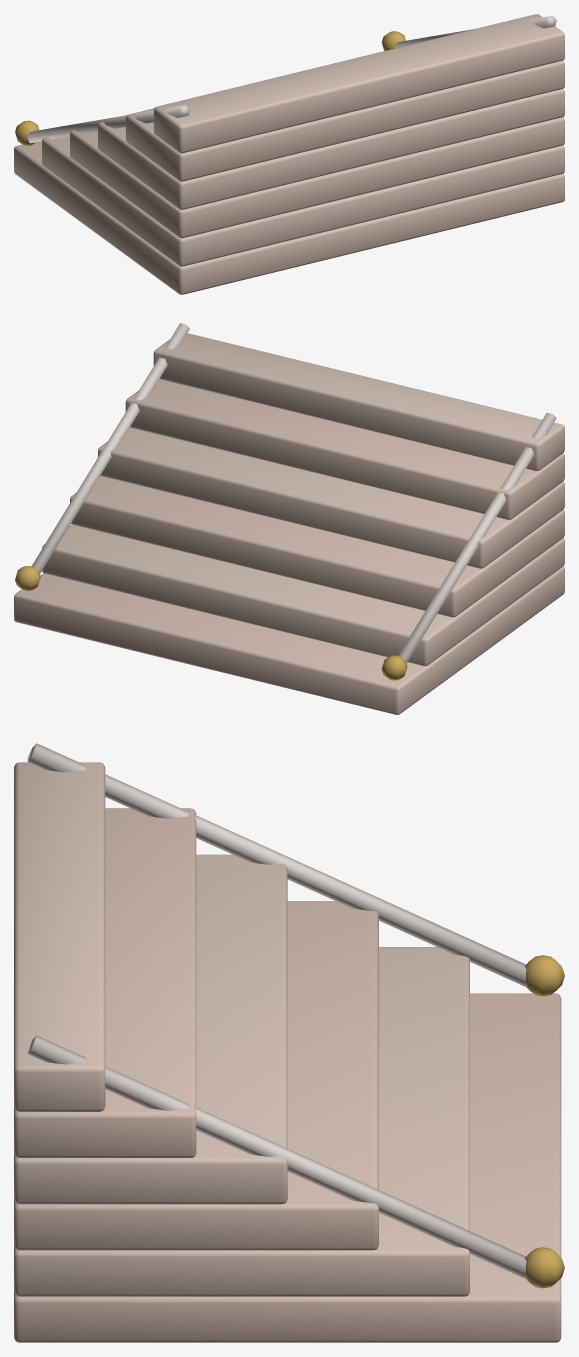
Rendered from stone_steps.glb.
The picture shows the model from 3 angles, top to bottom: view 1: azimuth 30°, elevation 25°; view 2: azimuth 150°, elevation 25°; view 3: azimuth 270°, elevation 25°; orthographic projection. The views are drawn at different scales.
Parts seen in each view (by area): view 1: stone_steps; view 2: stone_steps; view 3: stone_steps.
Part boxes in pixels (x1,y1,x2,y2): stone_steps: (14,14,564,294); stone_steps: (14,323,564,714); stone_steps: (14,743,564,1342).
Size of what is drawn, in the model's own units: 4 by 1.8 by 3.
